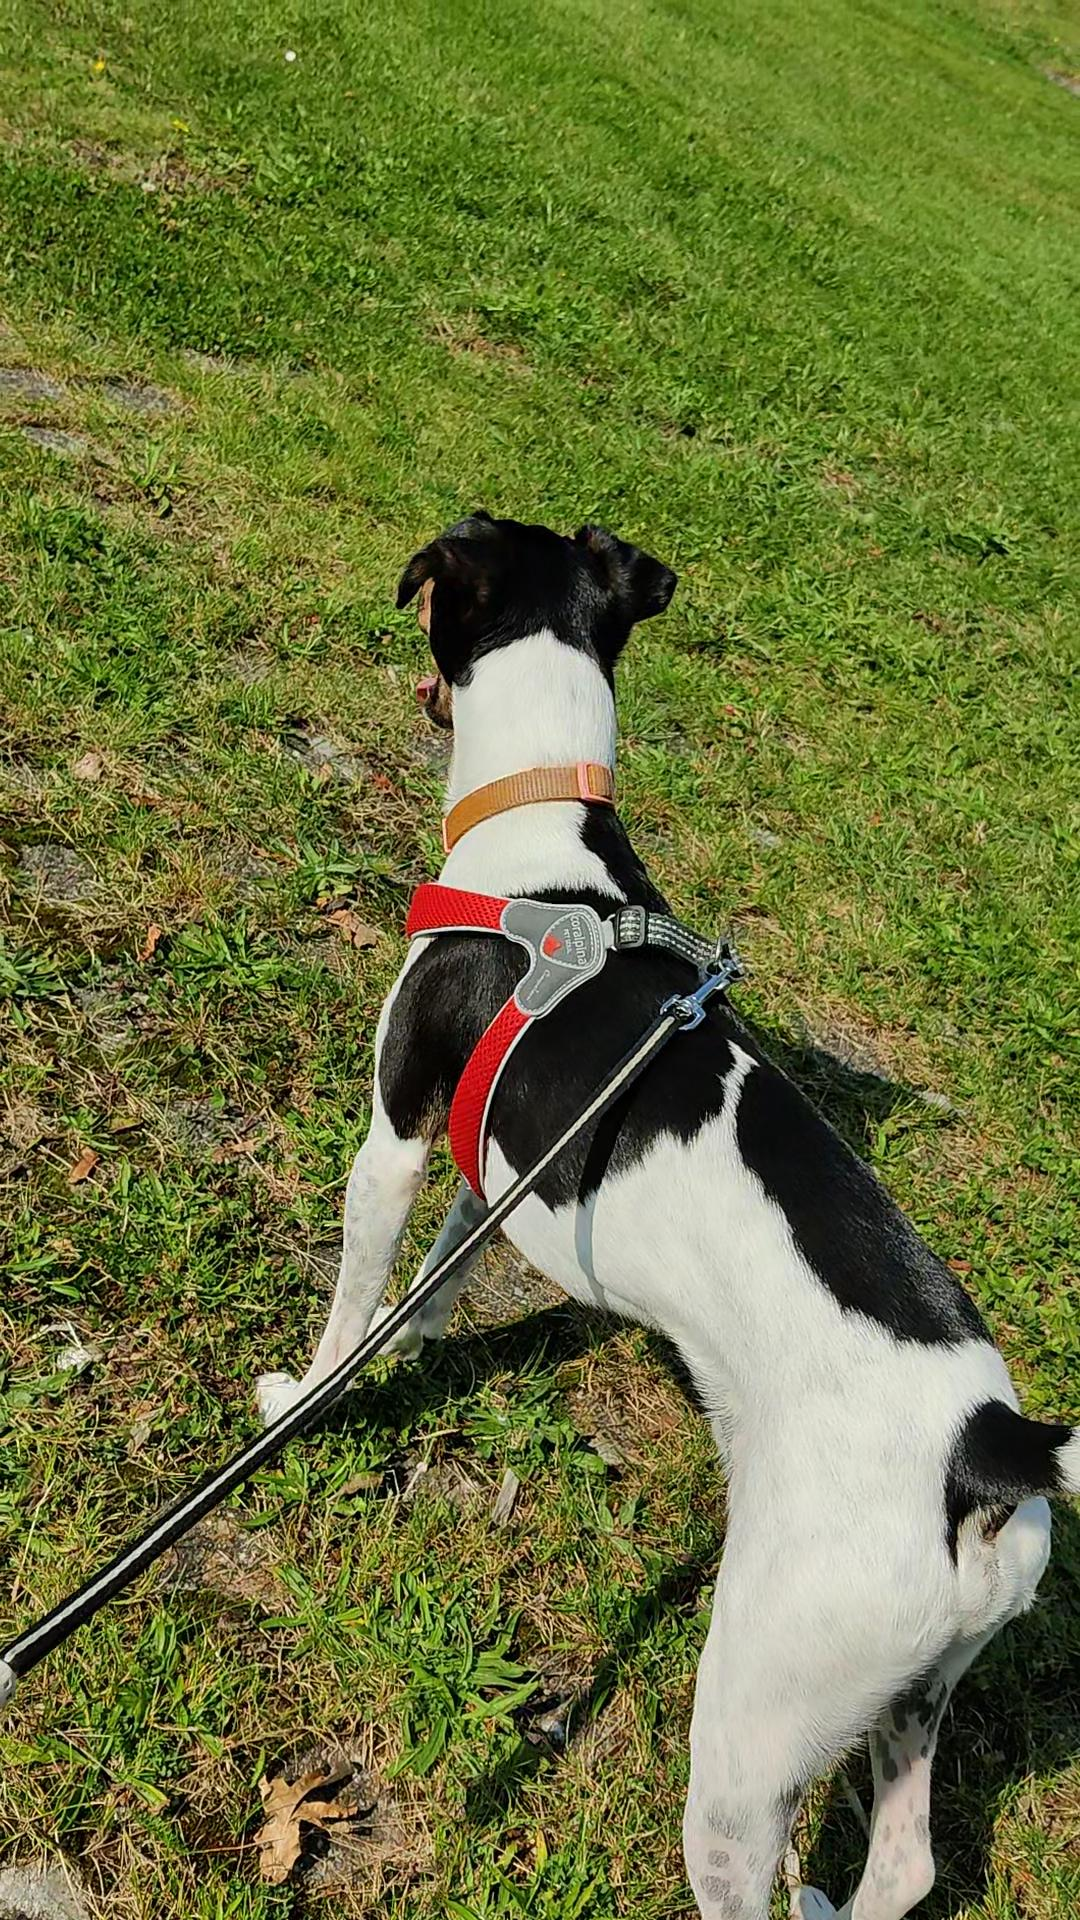Dog: (237, 492, 1079, 1919)
